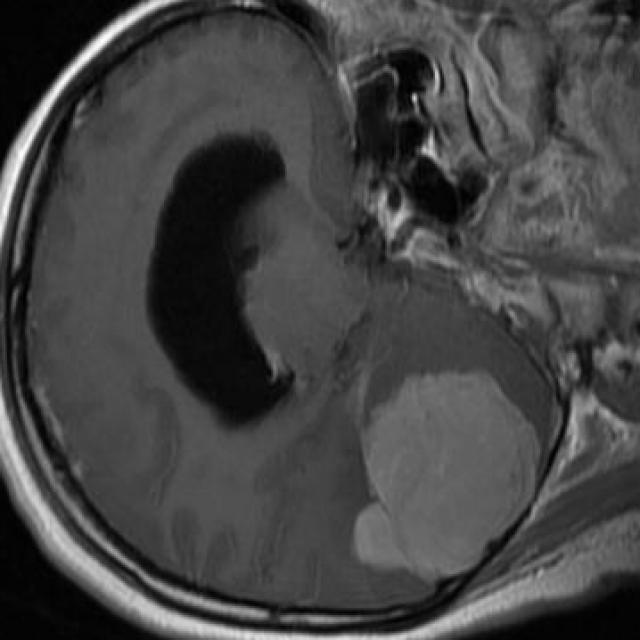meningioma: (355, 373, 540, 578)
